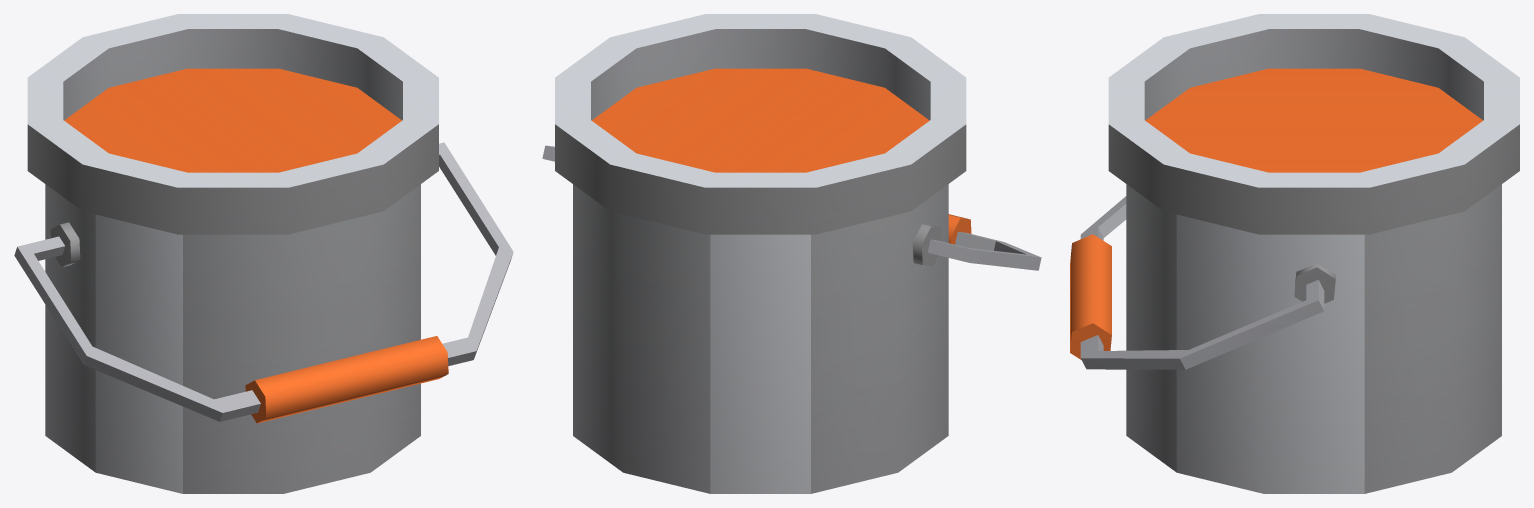
Rendered from SM_Bucket01.fbx.
The picture shows the model from 3 angles, left to right: view 1: azimuth 30°, elevation 25°; view 2: azimuth 150°, elevation 25°; view 3: azimuth 270°, elevation 25°; orthographic projection.
Visible parts, largest first — view 1: SM_Bucket01; view 2: SM_Bucket01; view 3: SM_Bucket01.
Boxes of the visible parts, x1,y1,x2,y2 form: SM_Bucket01: (14,14,513,493); SM_Bucket01: (542,14,1041,493); SM_Bucket01: (1070,14,1519,493).
Size of the model in its own units: 27.69 by 19.43 by 25.26.
